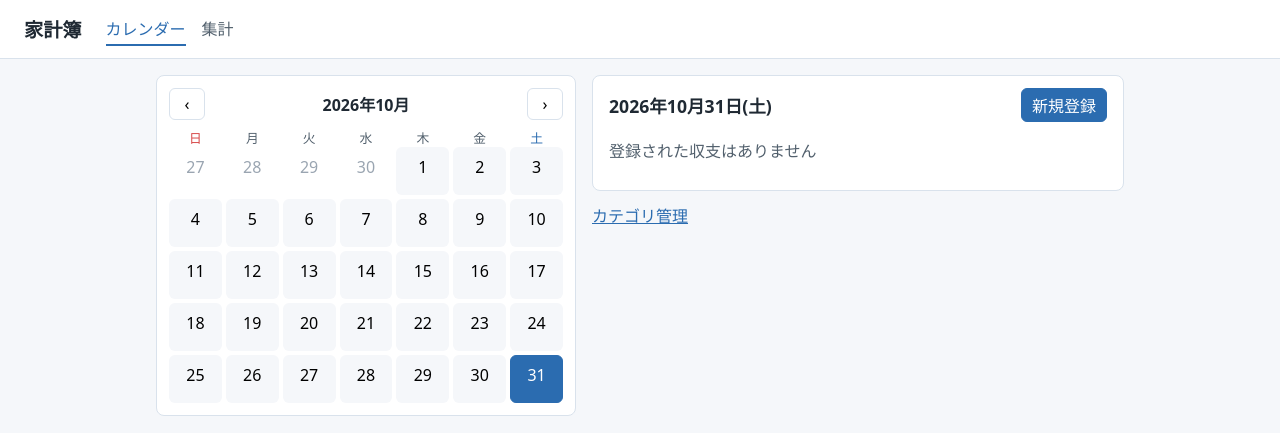
navigation › moves between the calendar page and the summary page
The image size is (1280, 433).
Expected: the element with class "calendar" is shown, [156, 75, 576, 416]
Step 1. Click the link "集計" → {"x": 218, "y": 29}, box [202, 12, 234, 46]
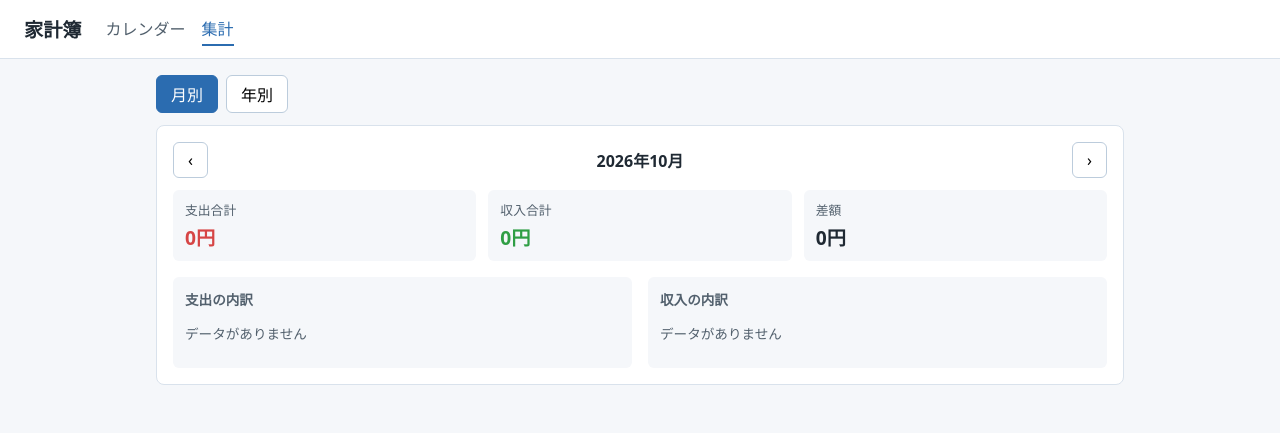
Now the element that starts with "2026年10月" is shown, box [156, 125, 1124, 385]
Step 2. Click the link "カレンダー" → {"x": 146, "y": 29}, box [106, 12, 186, 46]
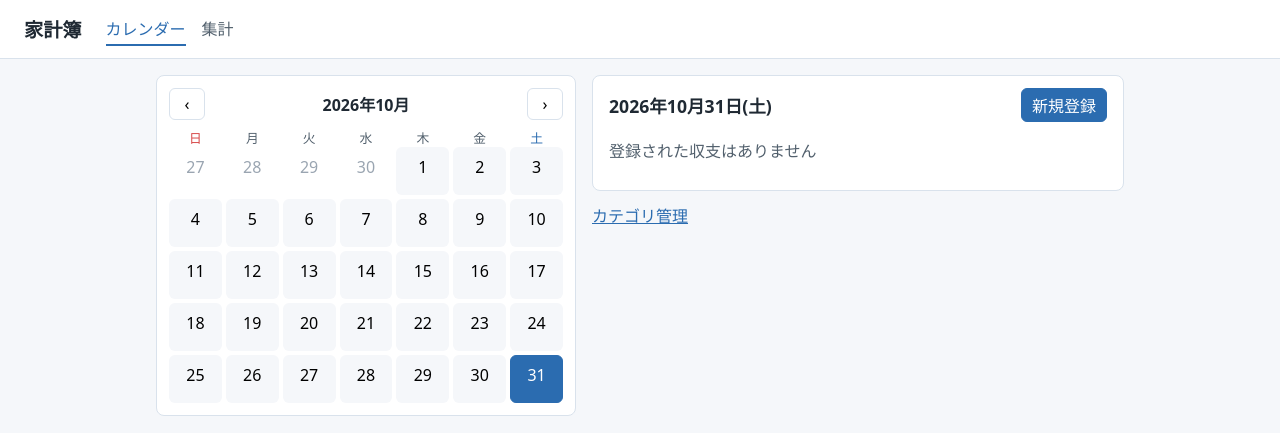
Now the element with class "calendar" is shown, box [156, 75, 576, 416]
